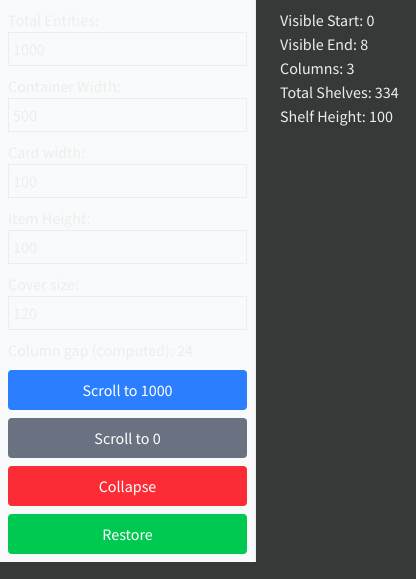
Test: useBookshelfVirtualizer › handles item resizing and collapse
What coordinates should you click on to do the following:
click the button with test id "btn-collapse"
I would click on:
 (128, 486)
Its box is x1=8 y1=466 x2=247 y2=506.
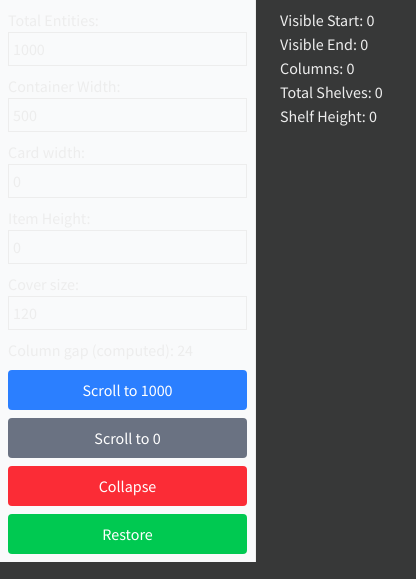
Now the text with test id "val-shelfHeight" reads "0", box x1=369 y1=106 x2=377 y2=126
What coordinates should you click on to do the following:
click the button with test id "btn-restore"
I would click on:
 (128, 534)
Its box is x1=8 y1=514 x2=247 y2=554.
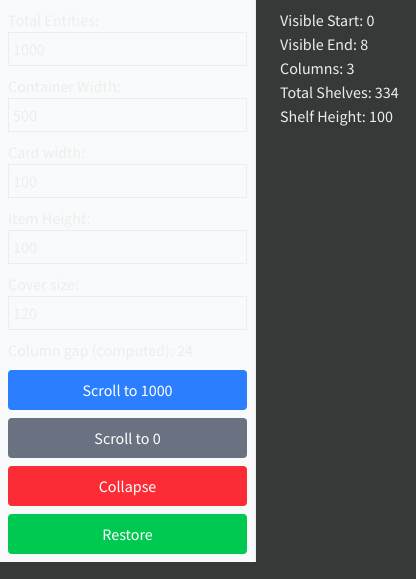
Expected: the text with test id "val-start" reads "0", x1=367 y1=10 x2=375 y2=30
Now the text with test id "val-shelfHeight" reads "100", box x1=369 y1=106 x2=393 y2=126
